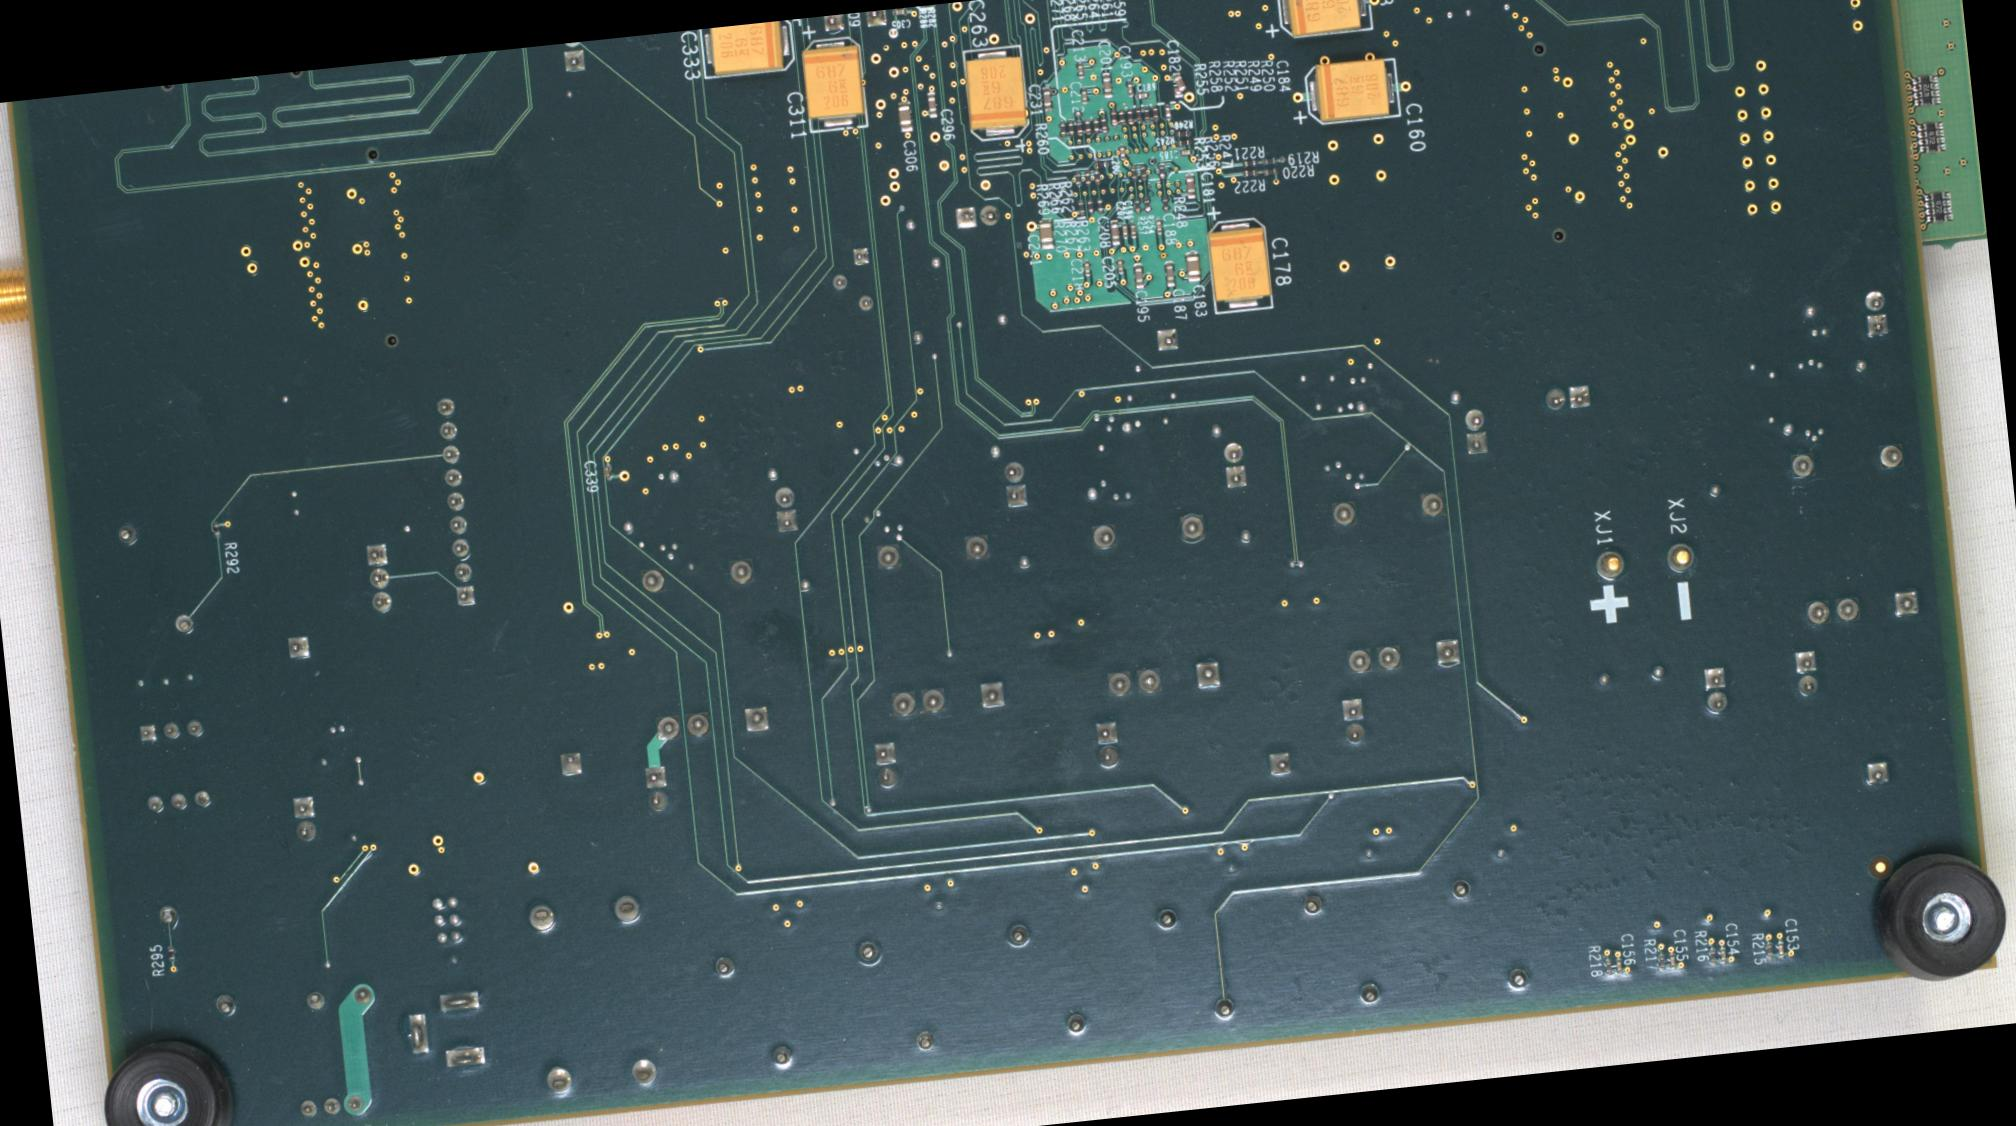Capacitor: (1037, 217, 1054, 249), (896, 101, 912, 132), (1184, 251, 1200, 281), (1171, 71, 1187, 96), (1163, 259, 1176, 288), (925, 91, 937, 118), (1108, 219, 1120, 245), (1131, 262, 1144, 288), (1101, 71, 1112, 97), (1040, 84, 1051, 111), (1184, 172, 1195, 198), (602, 464, 613, 482), (1775, 940, 1785, 958), (1155, 215, 1163, 234), (1076, 61, 1084, 79), (1124, 79, 1133, 97), (1614, 957, 1623, 974), (1718, 946, 1727, 963), (1134, 90, 1151, 98), (1117, 144, 1126, 161), (1128, 220, 1137, 237), (1083, 259, 1091, 276), (1177, 148, 1192, 157), (1163, 102, 1170, 119), (1120, 222, 1127, 238), (1116, 256, 1123, 273), (1668, 953, 1675, 968), (1080, 87, 1087, 102)
Connector: (0, 249, 40, 332)
Electrolytic Capacitor: (1302, 55, 1401, 126), (961, 43, 1029, 143), (799, 35, 867, 133), (1206, 216, 1272, 314), (701, 21, 796, 79), (1272, 0, 1374, 40)
Pins: (518, 889, 666, 1102), (631, 553, 777, 752), (1086, 507, 1228, 706), (1782, 439, 1926, 636), (868, 529, 1011, 724), (1325, 485, 1466, 681), (429, 391, 482, 611), (396, 983, 494, 1079), (209, 974, 377, 1025), (134, 716, 213, 817), (825, 242, 882, 319), (360, 540, 397, 619), (288, 1090, 370, 1122), (637, 760, 677, 817), (1538, 375, 1592, 417), (1458, 403, 1494, 464), (1855, 287, 1894, 342), (1336, 692, 1371, 753), (1788, 644, 1822, 704), (997, 456, 1030, 514), (1698, 661, 1731, 717), (285, 789, 320, 843), (1090, 717, 1123, 773), (868, 735, 900, 791), (820, 10, 889, 35), (770, 482, 800, 537), (1220, 438, 1250, 492), (948, 201, 1004, 230), (1261, 747, 1295, 784), (1860, 755, 1894, 788), (554, 745, 586, 781), (281, 632, 313, 662), (1152, 324, 1181, 352), (154, 902, 180, 928), (169, 609, 197, 634)
Resistor Jumper: (1911, 72, 1940, 107), (1923, 190, 1952, 224), (1916, 119, 1945, 152)
Resistor Network: (1764, 940, 1774, 960), (1073, 119, 1083, 136), (1159, 194, 1169, 211), (1603, 957, 1612, 975), (1657, 954, 1666, 972), (1141, 104, 1149, 122), (1058, 119, 1066, 137), (210, 519, 219, 537), (1242, 168, 1257, 177), (1709, 947, 1716, 968), (166, 945, 174, 961), (1109, 109, 1117, 126), (1134, 107, 1142, 123), (1126, 108, 1134, 125), (1099, 115, 1108, 132), (1128, 163, 1137, 180), (1158, 162, 1166, 179), (1260, 155, 1277, 163), (1076, 198, 1084, 215), (1142, 195, 1151, 212), (1151, 105, 1159, 120), (1066, 119, 1074, 134), (1095, 198, 1104, 213), (1091, 161, 1109, 168), (1117, 108, 1124, 125), (1073, 170, 1080, 187), (1140, 163, 1146, 180), (1083, 118, 1090, 133), (1091, 118, 1098, 133), (1176, 130, 1191, 137), (1176, 138, 1191, 145), (1084, 170, 1091, 186), (1242, 159, 1257, 166), (1261, 168, 1277, 175), (1086, 198, 1092, 213), (1133, 198, 1140, 213), (1092, 169, 1099, 183)
Test Point: (1660, 539, 1696, 573), (1590, 547, 1626, 582)
